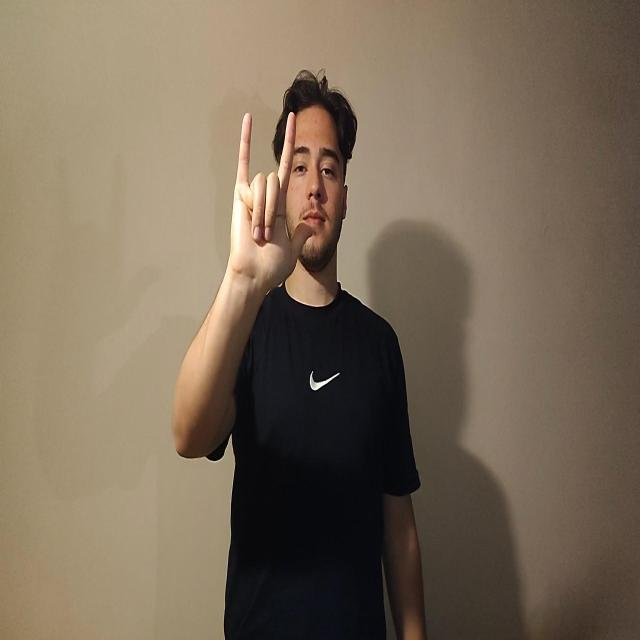iloveyou: (228, 110, 312, 294)
